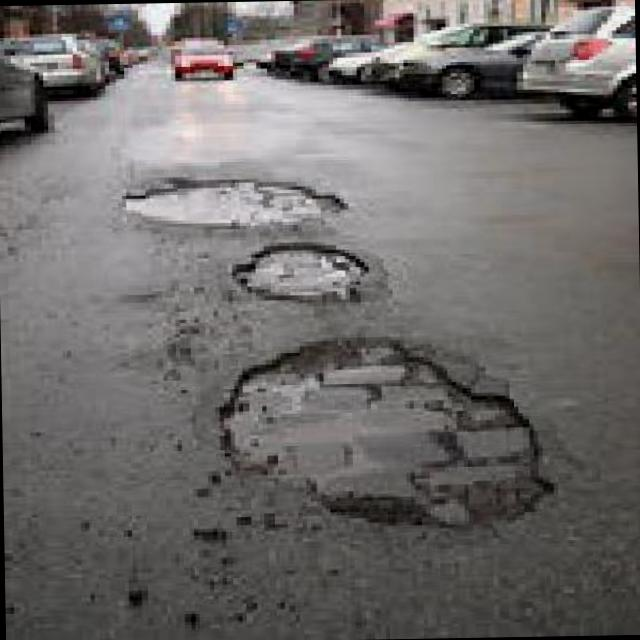Lubang: (220, 338, 553, 530), (123, 178, 346, 229), (232, 243, 369, 301)
